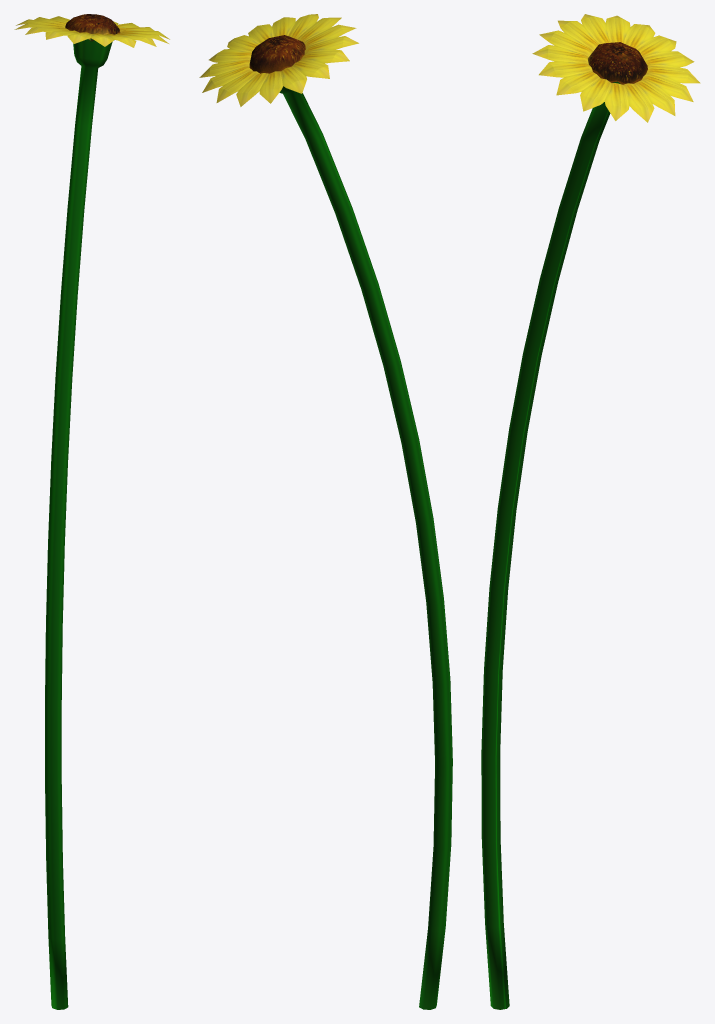
Rendered from flower_B_c01.fbx.
The picture shows the model from 3 angles, left to right: view 1: azimuth 30°, elevation 25°; view 2: azimuth 150°, elevation 25°; view 3: azimuth 270°, elevation 25°; orthographic projection. The views are drawn at different scales.
Parts seen in each view (by area): view 1: flowerB_c1; view 2: flowerB_c1; view 3: flowerB_c1.
Part boxes in pixels (<box>): flowerB_c1: <box>14,14,169,1009</box>; flowerB_c1: <box>199,14,452,1009</box>; flowerB_c1: <box>481,14,700,1009</box>.
Size of the model in its own units: 4.56 by 23.68 by 4.66.
